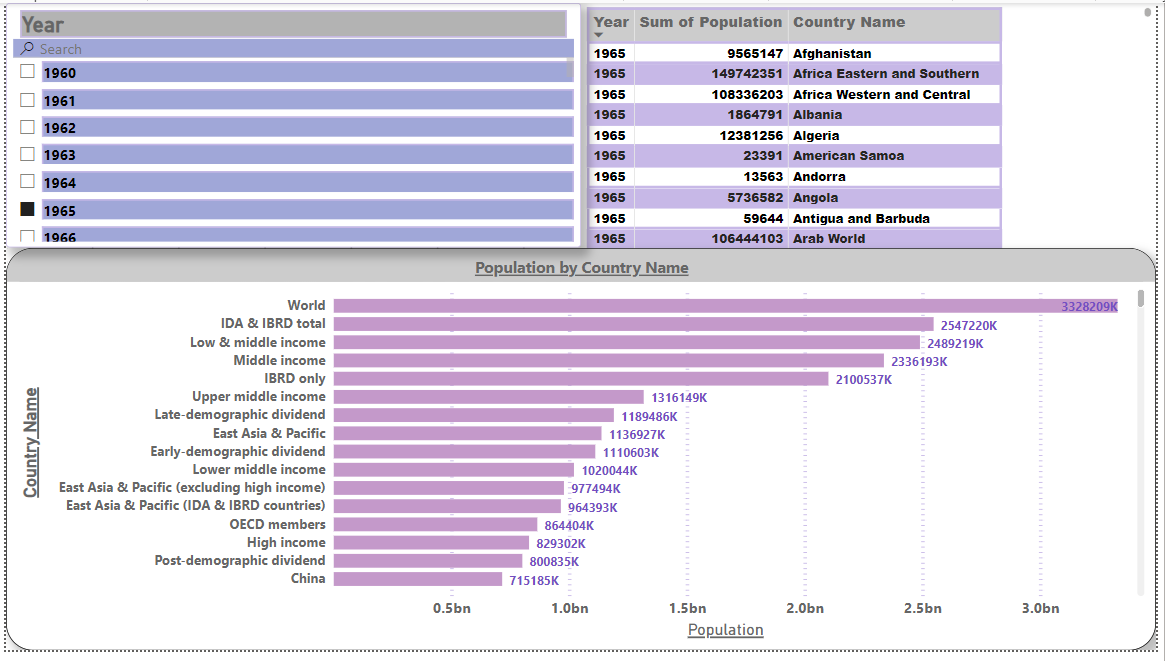

What the dashboard file says about the page in this screenshot:
{"tool":"powerbi","page":{"name":"Page 1","canvas":[1280,720],"ordinal":0},"visuals":[{"type":"actionButton","box":[0,0,100,40],"z":0},{"type":"tableEx","fields":{"Values":["Table4.Year","Sum(Table4.Population)","Table4.Country Name"]},"box":[640,0,640,304],"z":1000},{"type":"barChart","title":" Population by Country Name","fields":{"Category":["Table4.Country Name"],"Y":["Sum(Table4.Population)"]},"box":[0,272,1280,448],"z":2000},{"type":"slicer","fields":{"Values":["Table4.Year"]},"box":[0,0,640,272],"z":3000}]}

Visuals, with their boxes in screenshot pixels (x1, y1, x2, y2):
actionButton: <box>0,0,90,36</box>
tableEx - Table4.Year x Sum(Table4.Population): <box>574,0,1149,273</box>
" Population by Country Name" barChart: <box>0,244,1149,646</box>
slicer - Table4.Year: <box>0,0,574,244</box>
